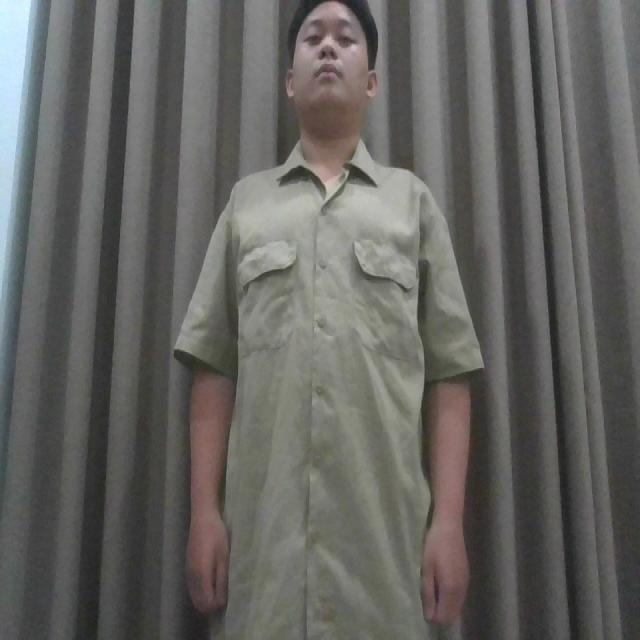short_Sleeve_shirt: (176, 140, 482, 637)
